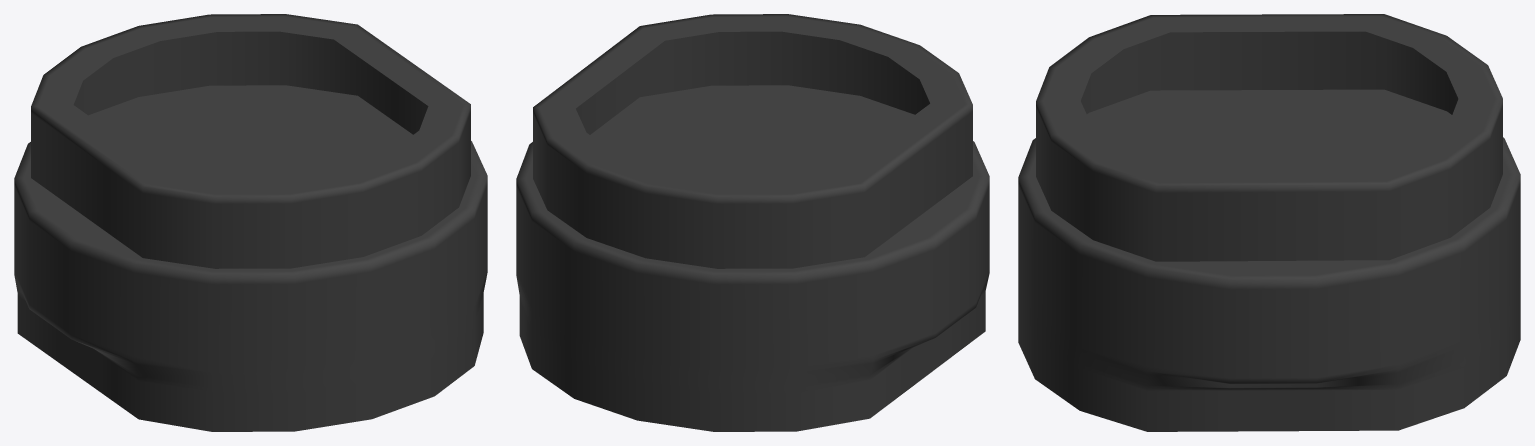
The picture shows the model from 3 angles, left to right: view 1: azimuth 30°, elevation 25°; view 2: azimuth 150°, elevation 25°; view 3: azimuth 270°, elevation 25°; orthographic projection. The views are drawn at different scales.
Visible parts, largest first — view 1: base_link; view 2: base_link; view 3: base_link.
Boxes of the visible parts, box(x1,y1,x2,y2) form: base_link: box(14, 14, 487, 431); base_link: box(516, 14, 989, 431); base_link: box(1018, 14, 1520, 431).
Size of the model in its own units: 1.23 by 1.25 by 0.6624.
1 material, 1 textured.
